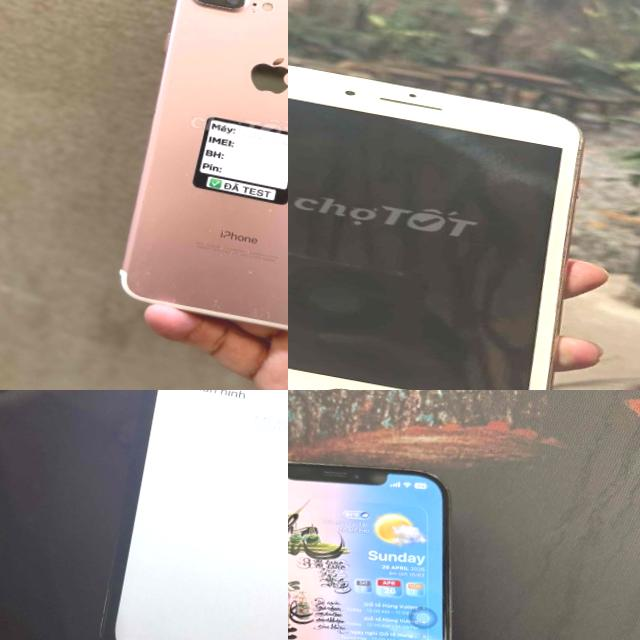gen_12_13: (74, 390, 288, 640), (288, 435, 516, 640)
gen_7_8: (288, 43, 611, 390), (106, 0, 288, 342)
